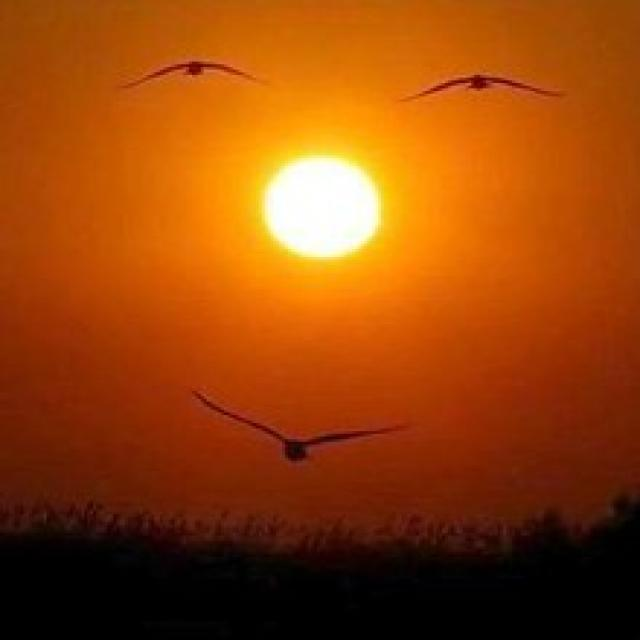sun: (217, 129, 427, 283)
